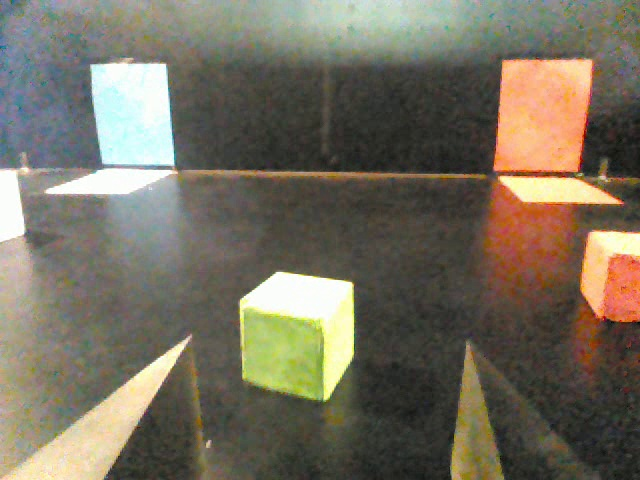cube: (233, 261, 360, 406), (575, 224, 640, 329)
